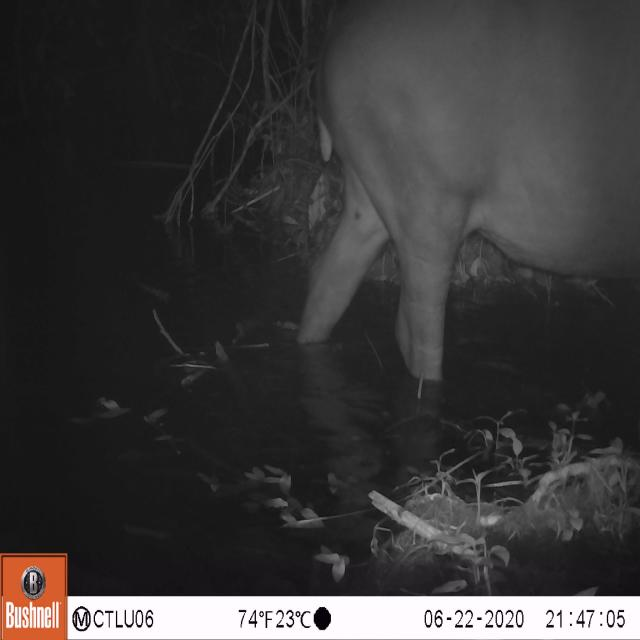Lowland Tapir: (297, 0, 640, 407)
